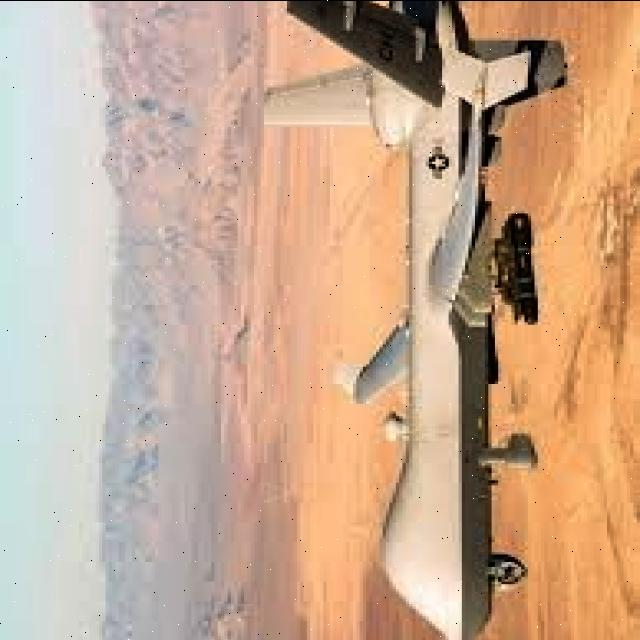MQ9: (276, 0, 640, 640)
